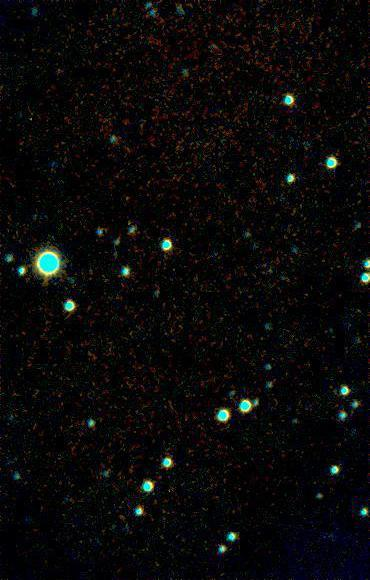star: (106, 507, 136, 537)
